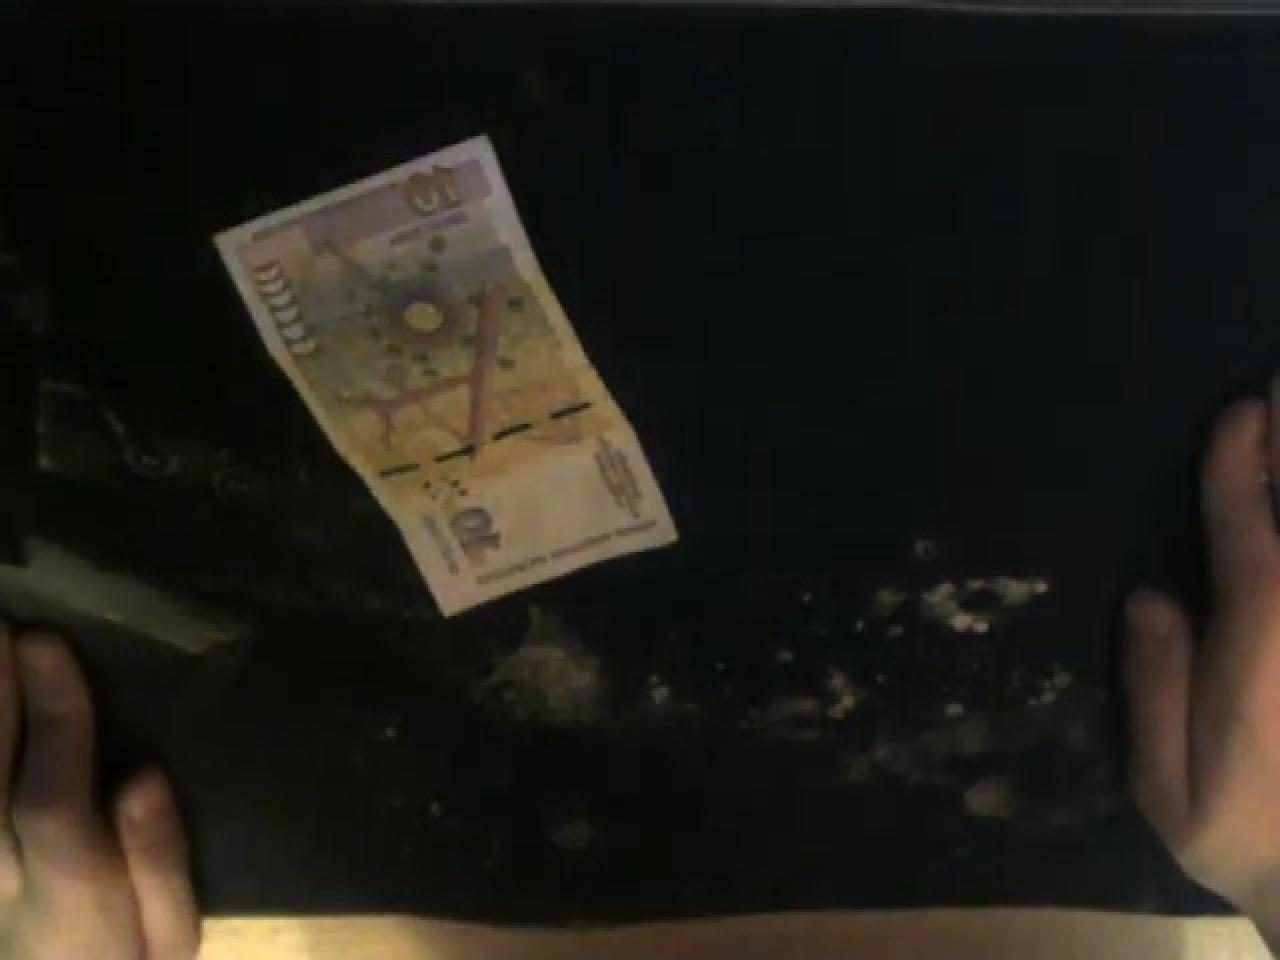10leva: (214, 131, 682, 613)
